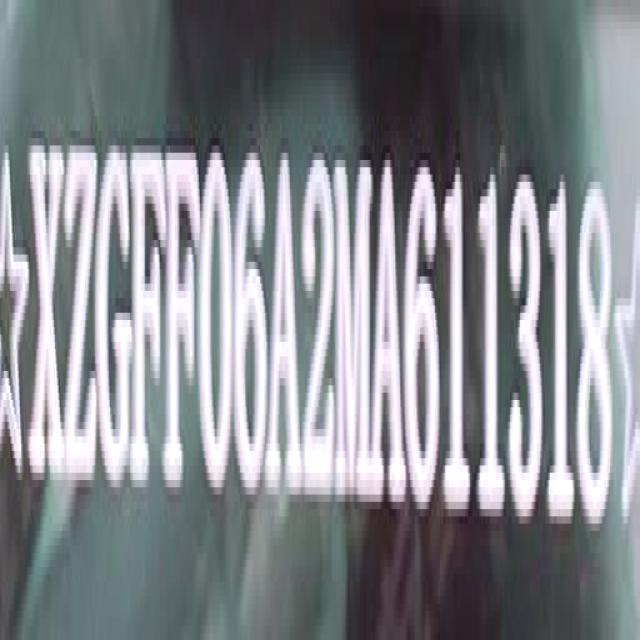0: (200, 138, 237, 503)
1: (546, 173, 575, 530), (476, 164, 504, 530), (442, 158, 468, 518)
2: (302, 144, 338, 514)
3: (510, 172, 543, 530)
6: (405, 152, 441, 523), (235, 142, 269, 502)
8: (579, 177, 615, 526)
A: (374, 148, 409, 518), (268, 144, 302, 512)
F: (164, 132, 200, 506), (134, 132, 168, 501)
G: (99, 140, 136, 497)
M: (332, 150, 373, 509)
X: (32, 130, 66, 493)
Z: (64, 132, 100, 492)
